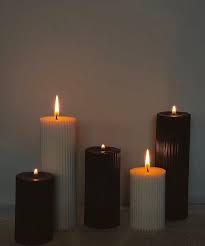candle: (41, 95, 79, 230), (158, 106, 189, 221), (13, 169, 57, 244), (128, 149, 164, 228), (86, 146, 120, 228)
